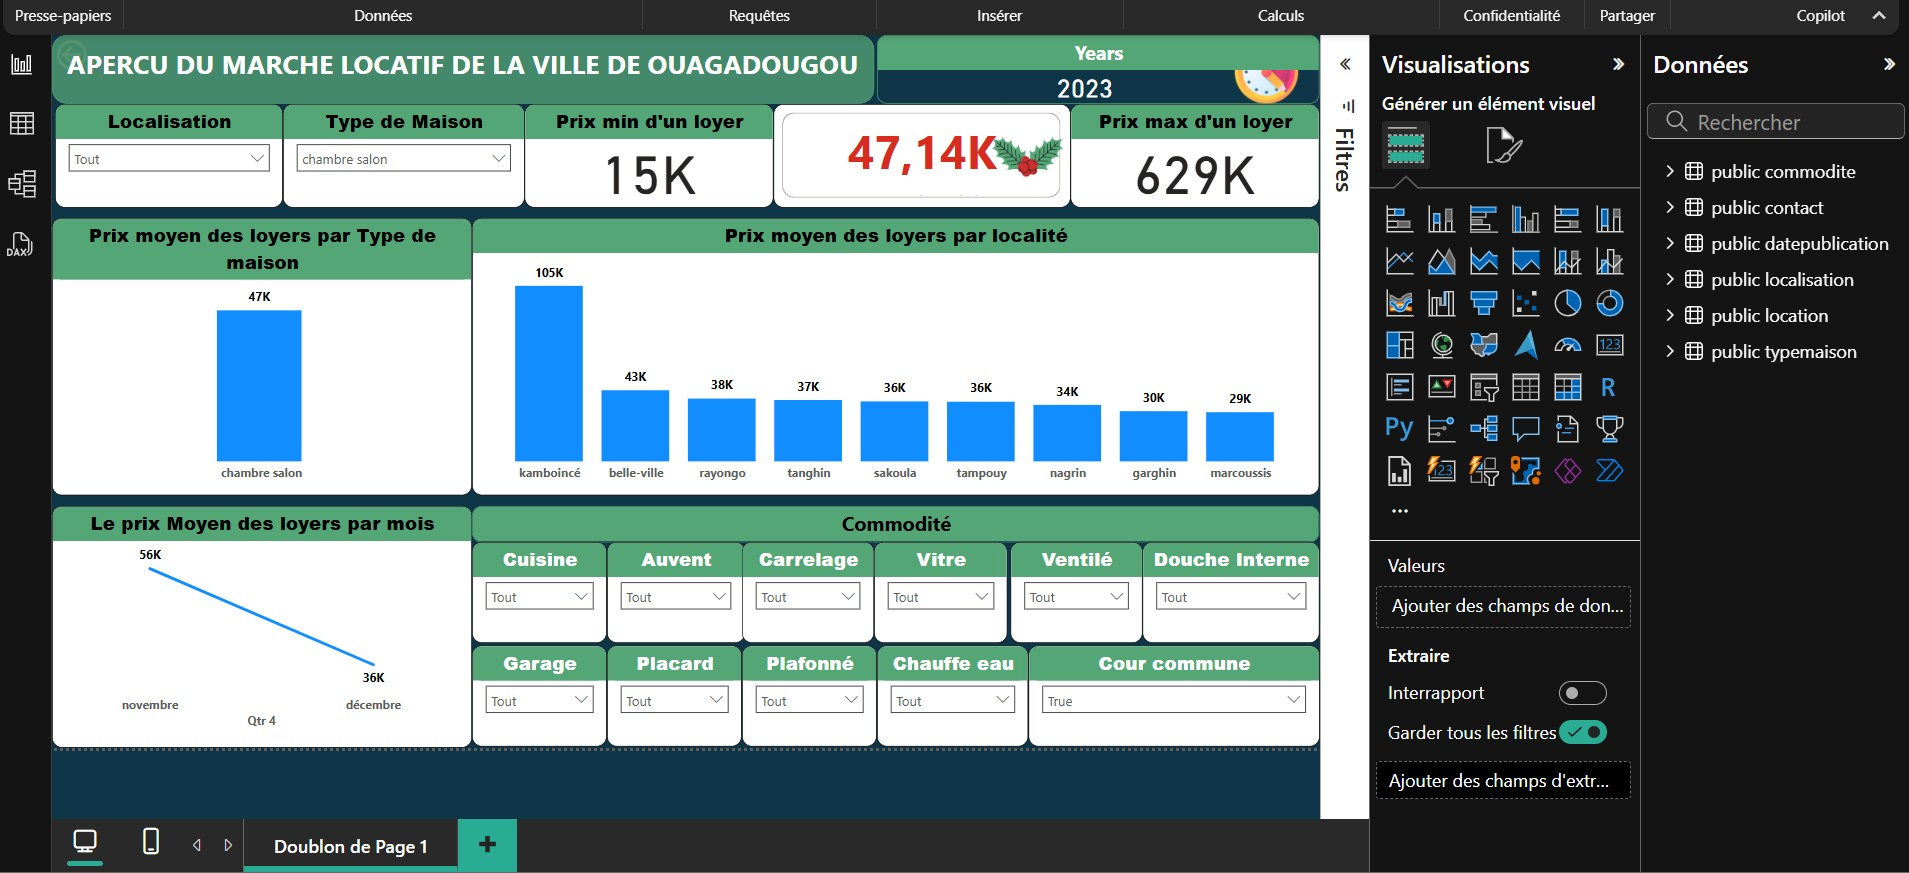

What the dashboard file says about the page in this screenshot:
{"tool":"powerbi","page":{"name":"Doublon de Page 1","canvas":[1280,720],"ordinal":0},"visuals":[{"type":"actionButton","box":[0,0,100,40],"z":0},{"type":"lineChart","title":"Le prix Moyen des loyers par mois","fields":{"Y":["Avg(public location.prixloyer)"],"Category":["public datepublication.datepublication.Variation.Hiérarchie de dates.Trimestre","public datepublication.datepublication.Variation.Hiérarchie de dates.Mois"]},"box":[0,475.5,424,243.8],"z":0,"group":"g3"},{"type":"card","title":"Prix moyen global des loyers ","fields":{"Values":["Avg(public location.prixloyer)"]},"box":[616.3,240.8,369.5,119.6],"z":1000},{"type":"textbox","box":[0,0,829.8,69.7],"z":2000},{"type":"card","title":"Prix min d''un loyer ","fields":{"Values":["Min(public location.prixloyer)"]},"box":[477,69.7,251.4,104.5],"z":3000},{"type":"columnChart","title":"Prix moyen des loyers par Type de maison","fields":{"Category":["public typemaison.typemaisonnom"],"Y":["Avg(public location.prixloyer)"]},"box":[0,184.7,424,280.1],"z":4000},{"type":"card","title":"Prix max d''un loyer ","fields":{"Values":["Max(public location.prixloyer)"]},"box":[1028.1,69.7,251.4,104.5],"z":5000},{"type":"slicer","title":"Localisation","fields":{"Values":["public localisation.localite"]},"box":[3,69.7,230.2,104.5],"z":6000},{"type":"columnChart","title":"Prix moyen des loyers par localité","fields":{"Y":["Avg(public location.prixloyer)"],"Category":["public localisation.localite"]},"box":[424,184.7,855.5,280.1],"z":7000},{"type":"slicer","title":"Cour commune","fields":{"Values":["public commodite.courcommune"]},"box":[985.8,617.3,293.8,102],"z":7000,"group":"g2"},{"type":"slicer","title":"Type de Maison ","fields":{"Values":["public typemaison.typemaisonnom"]},"box":[233.2,69.7,243.8,104.5],"z":8000},{"type":"textbox","title":"Commodité","box":[424,475.5,855.5,36.6],"z":8000,"group":"g1"},{"type":"slicer","title":"Cuisine","fields":{"Values":["public commodite.cuisine"]},"box":[424,512.1,136.3,102],"z":8000,"group":"g2"},{"type":"group","id":"g1","title":"Groupe 4","box":[424,475.5,855.5,243.8],"z":9000},{"type":"slicer","title":"Douche Interne","fields":{"Values":["public commodite.doucheinterne"]},"box":[1100.8,512.1,178.7,102],"z":9000,"group":"g2"},{"type":"cardVisual","title":"Prix Moyen des loyers","fields":{"Data":["Avg(public location.prixloyer)"]},"box":[728.3,69.7,299.8,104.5],"z":10000},{"type":"group","id":"g2","title":"Groupe 1","box":[424,512.1,855.5,207.1],"z":10000,"group":"g1"},{"type":"slicer","title":"Auvent ","fields":{"Values":["public commodite.auvent"]},"box":[560.3,512.1,139.3,102],"z":10000,"group":"g2"},{"type":"image","box":[925.2,92.4,119.6,60.6],"z":11000},{"type":"slicer","title":"Carrelage","fields":{"Values":["public commodite.carrelage"]},"box":[696.6,512.1,133.3,102],"z":11000,"group":"g2"},{"type":"group","id":"g3","title":"Groupe 5","box":[0,475.5,424,243.8],"z":12000},{"type":"slicer","title":"Chauffe eau","fields":{"Values":["public commodite.chauffeeau"]},"box":[832.8,617.3,152.9,102],"z":12000,"group":"g2"},{"type":"image","box":[1172,0,107.5,74.2],"z":13000},{"type":"slicer","title":"Garage","fields":{"Values":["public commodite.garage"]},"box":[424,617.3,136.3,102],"z":13000,"group":"g2"},{"type":"card","title":"Prix min d''un loyer ","fields":{"Values":["Min(public datepublication.datepublication)"]},"box":[964.5,37.9,156,30.3],"z":14000},{"type":"slicer","title":"Placard ","fields":{"Values":["public commodite.auvent","public commodite.placards"]},"box":[560.3,617.3,136.3,102],"z":14000,"group":"g2"},{"type":"textbox","title":"Years","box":[832.8,0,446.7,69.7],"z":15000},{"type":"slicer","title":"Plafonné","fields":{"Values":["public commodite.plafonne"]},"box":[696.6,617.3,136.3,102],"z":15000,"group":"g2"},{"type":"slicer","title":"Ventilé","fields":{"Values":["public commodite.ventile"]},"box":[967.6,512.1,133.3,102],"z":16000,"group":"g2"},{"type":"slicer","title":"Vitre","fields":{"Values":["public commodite.vitre"]},"box":[829.8,512.1,134.8,102],"z":17000,"group":"g2"}]}

Visuals, with their boxes on the page's 1280x720 design canvas (x1, y1, x2, y2). These are canvas units, not pixel positions in the 1909x873 screenshot, which may show the page scaled, cropped or inside an application window:
actionButton: [x1=0, y1=0, x2=100, y2=40]
"Le prix Moyen des loyers par mois" lineChart: [x1=0, y1=476, x2=424, y2=719]
"Prix moyen global des loyers " card: [x1=616, y1=241, x2=986, y2=360]
textbox: [x1=0, y1=0, x2=830, y2=70]
"Prix min d''un loyer " card: [x1=477, y1=70, x2=728, y2=174]
"Prix moyen des loyers par Type de maison" columnChart: [x1=0, y1=185, x2=424, y2=465]
"Prix max d''un loyer " card: [x1=1028, y1=70, x2=1280, y2=174]
"Localisation" slicer: [x1=3, y1=70, x2=233, y2=174]
"Prix moyen des loyers par localité" columnChart: [x1=424, y1=185, x2=1280, y2=465]
"Cour commune" slicer: [x1=986, y1=617, x2=1280, y2=719]
"Type de Maison " slicer: [x1=233, y1=70, x2=477, y2=174]
"Commodité" textbox: [x1=424, y1=476, x2=1280, y2=512]
"Cuisine" slicer: [x1=424, y1=512, x2=560, y2=614]
"Groupe 4" group: [x1=424, y1=476, x2=1280, y2=719]
"Douche Interne" slicer: [x1=1101, y1=512, x2=1280, y2=614]
"Prix Moyen des loyers" cardVisual: [x1=728, y1=70, x2=1028, y2=174]
"Groupe 1" group: [x1=424, y1=512, x2=1280, y2=719]
"Auvent " slicer: [x1=560, y1=512, x2=700, y2=614]
image: [x1=925, y1=92, x2=1045, y2=153]
"Carrelage" slicer: [x1=697, y1=512, x2=830, y2=614]
"Groupe 5" group: [x1=0, y1=476, x2=424, y2=719]
"Chauffe eau" slicer: [x1=833, y1=617, x2=986, y2=719]
image: [x1=1172, y1=0, x2=1280, y2=74]
"Garage" slicer: [x1=424, y1=617, x2=560, y2=719]
"Prix min d''un loyer " card: [x1=964, y1=38, x2=1120, y2=68]
"Placard " slicer: [x1=560, y1=617, x2=697, y2=719]
"Years" textbox: [x1=833, y1=0, x2=1280, y2=70]
"Plafonné" slicer: [x1=697, y1=617, x2=833, y2=719]
"Ventilé" slicer: [x1=968, y1=512, x2=1101, y2=614]
"Vitre" slicer: [x1=830, y1=512, x2=965, y2=614]
